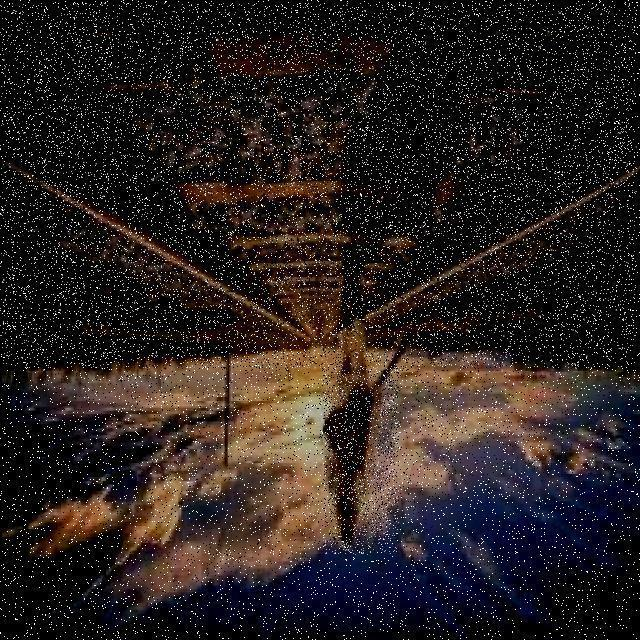rail: (1, 4, 637, 369)
